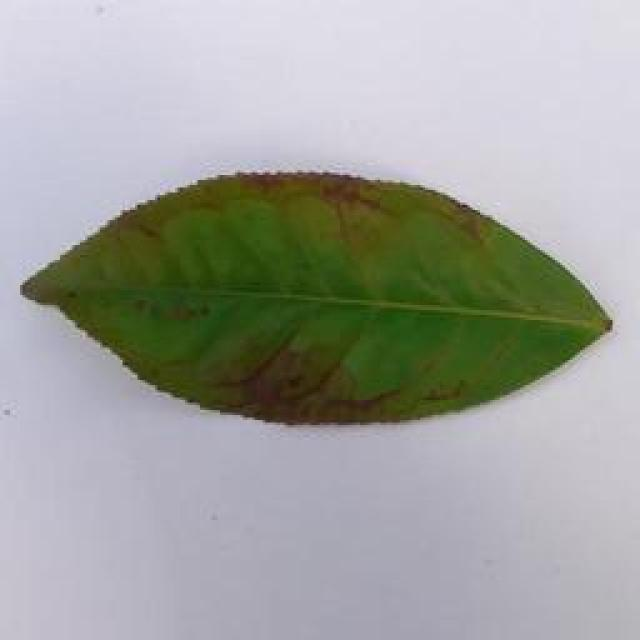Red Leaf Spot: (0, 160, 630, 415)
